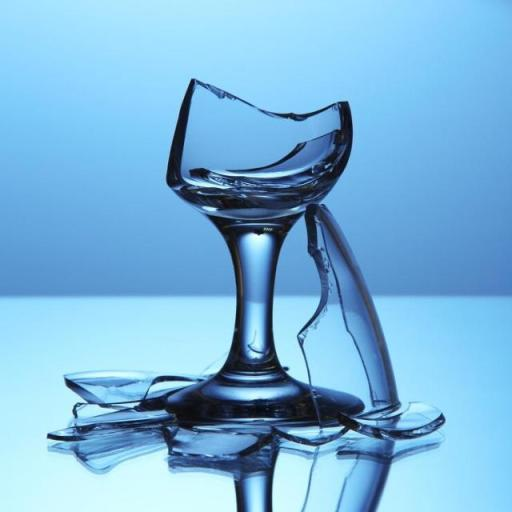glass: (120, 66, 375, 442), (268, 192, 436, 430), (52, 360, 216, 411), (47, 420, 176, 472), (50, 402, 175, 436)
